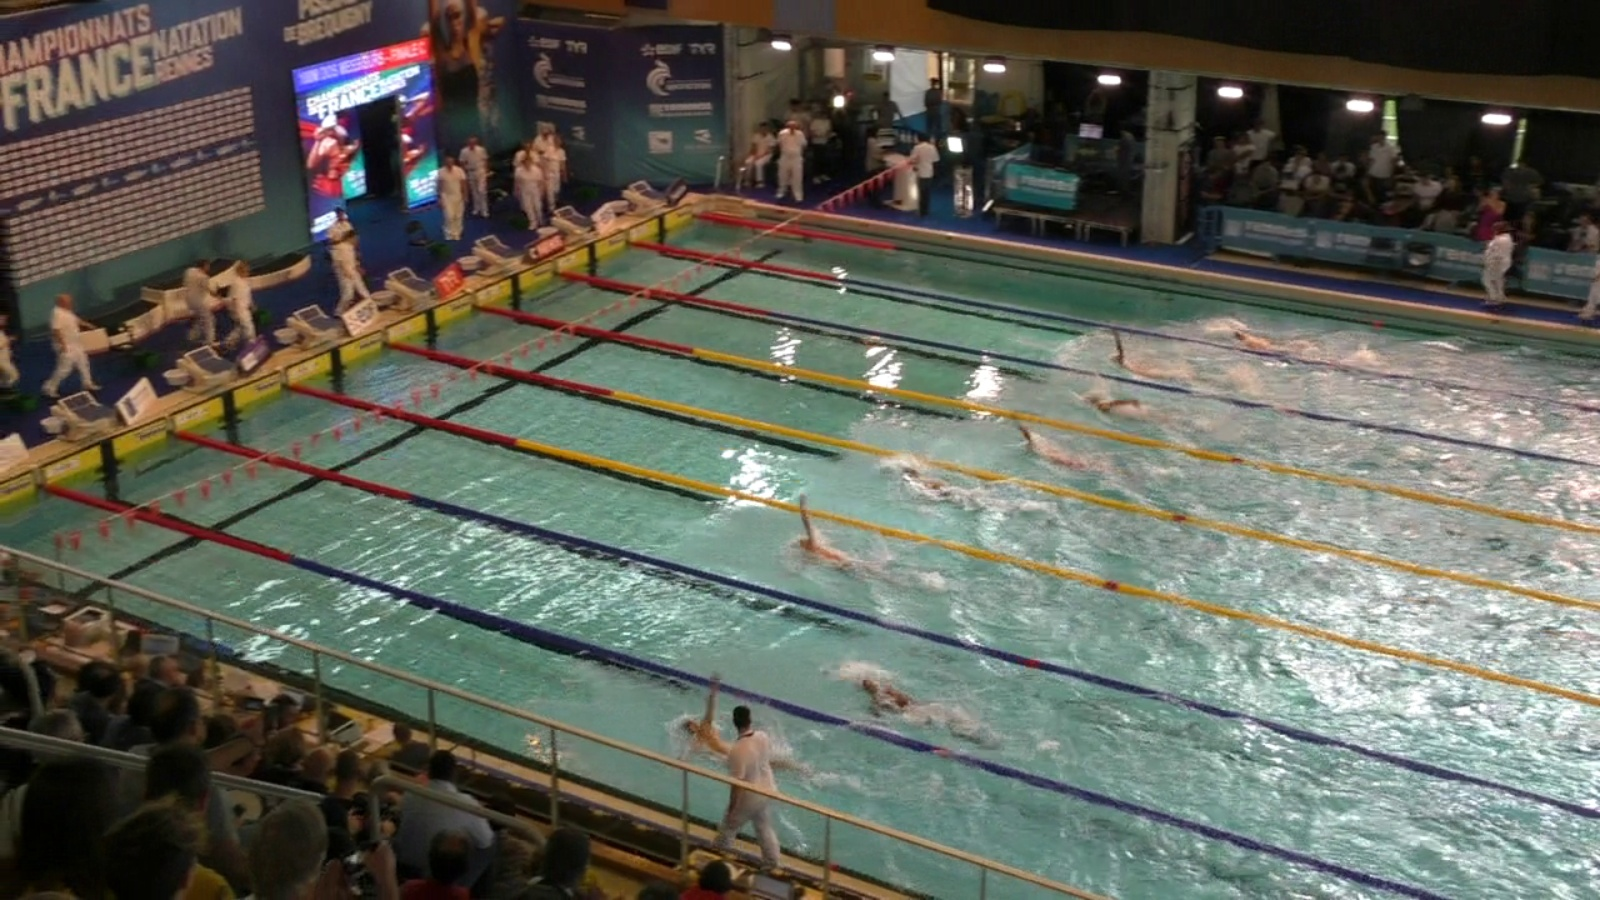swimmerwdd: (666, 668, 813, 780), (795, 497, 921, 604), (849, 676, 1010, 751), (895, 467, 1046, 523), (1015, 409, 1118, 485), (1110, 327, 1193, 391), (1078, 388, 1169, 433), (1231, 320, 1322, 363)
